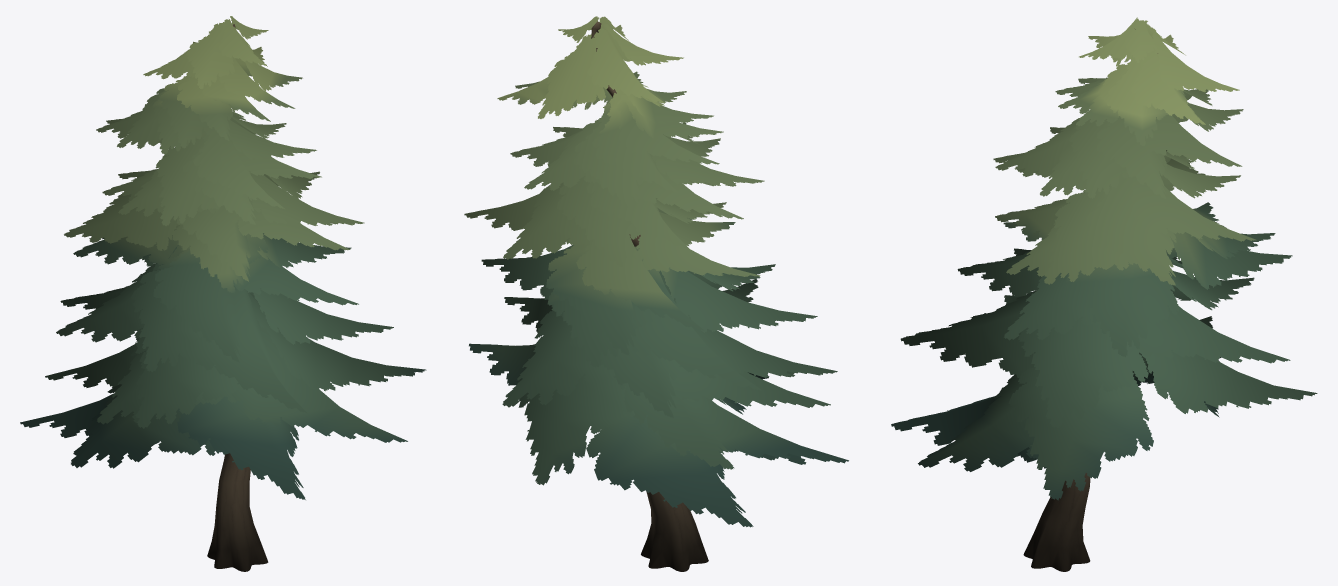
File: conifer-sheltered-pine.glb
3 renders of one model, left to right at view 1: azimuth 30°, elevation 25°; view 2: azimuth 150°, elevation 25°; view 3: azimuth 270°, elevation 25°, orthographic. The views are drawn at different scales.
Parts seen in each view (by area): view 1: conifer-sheltered-pine runtime mesh; view 2: conifer-sheltered-pine runtime mesh; view 3: conifer-sheltered-pine runtime mesh.
Part boxes in pixels (x1,y1,x2,y2): conifer-sheltered-pine runtime mesh: (20,16,426,571); conifer-sheltered-pine runtime mesh: (464,16,848,571); conifer-sheltered-pine runtime mesh: (891,17,1317,571).
Bounding box in the file's own units: 4.12 × 5.6 × 3.99.
2 materials, 2 textured.
